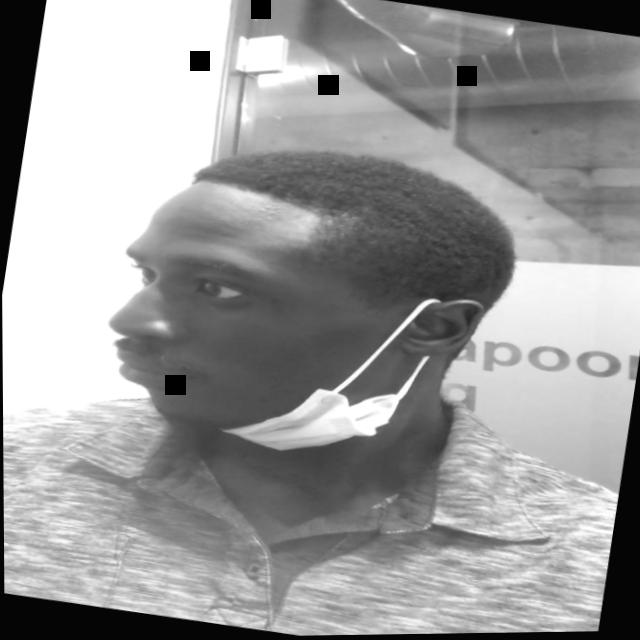NO-Mask: (90, 174, 478, 468)
